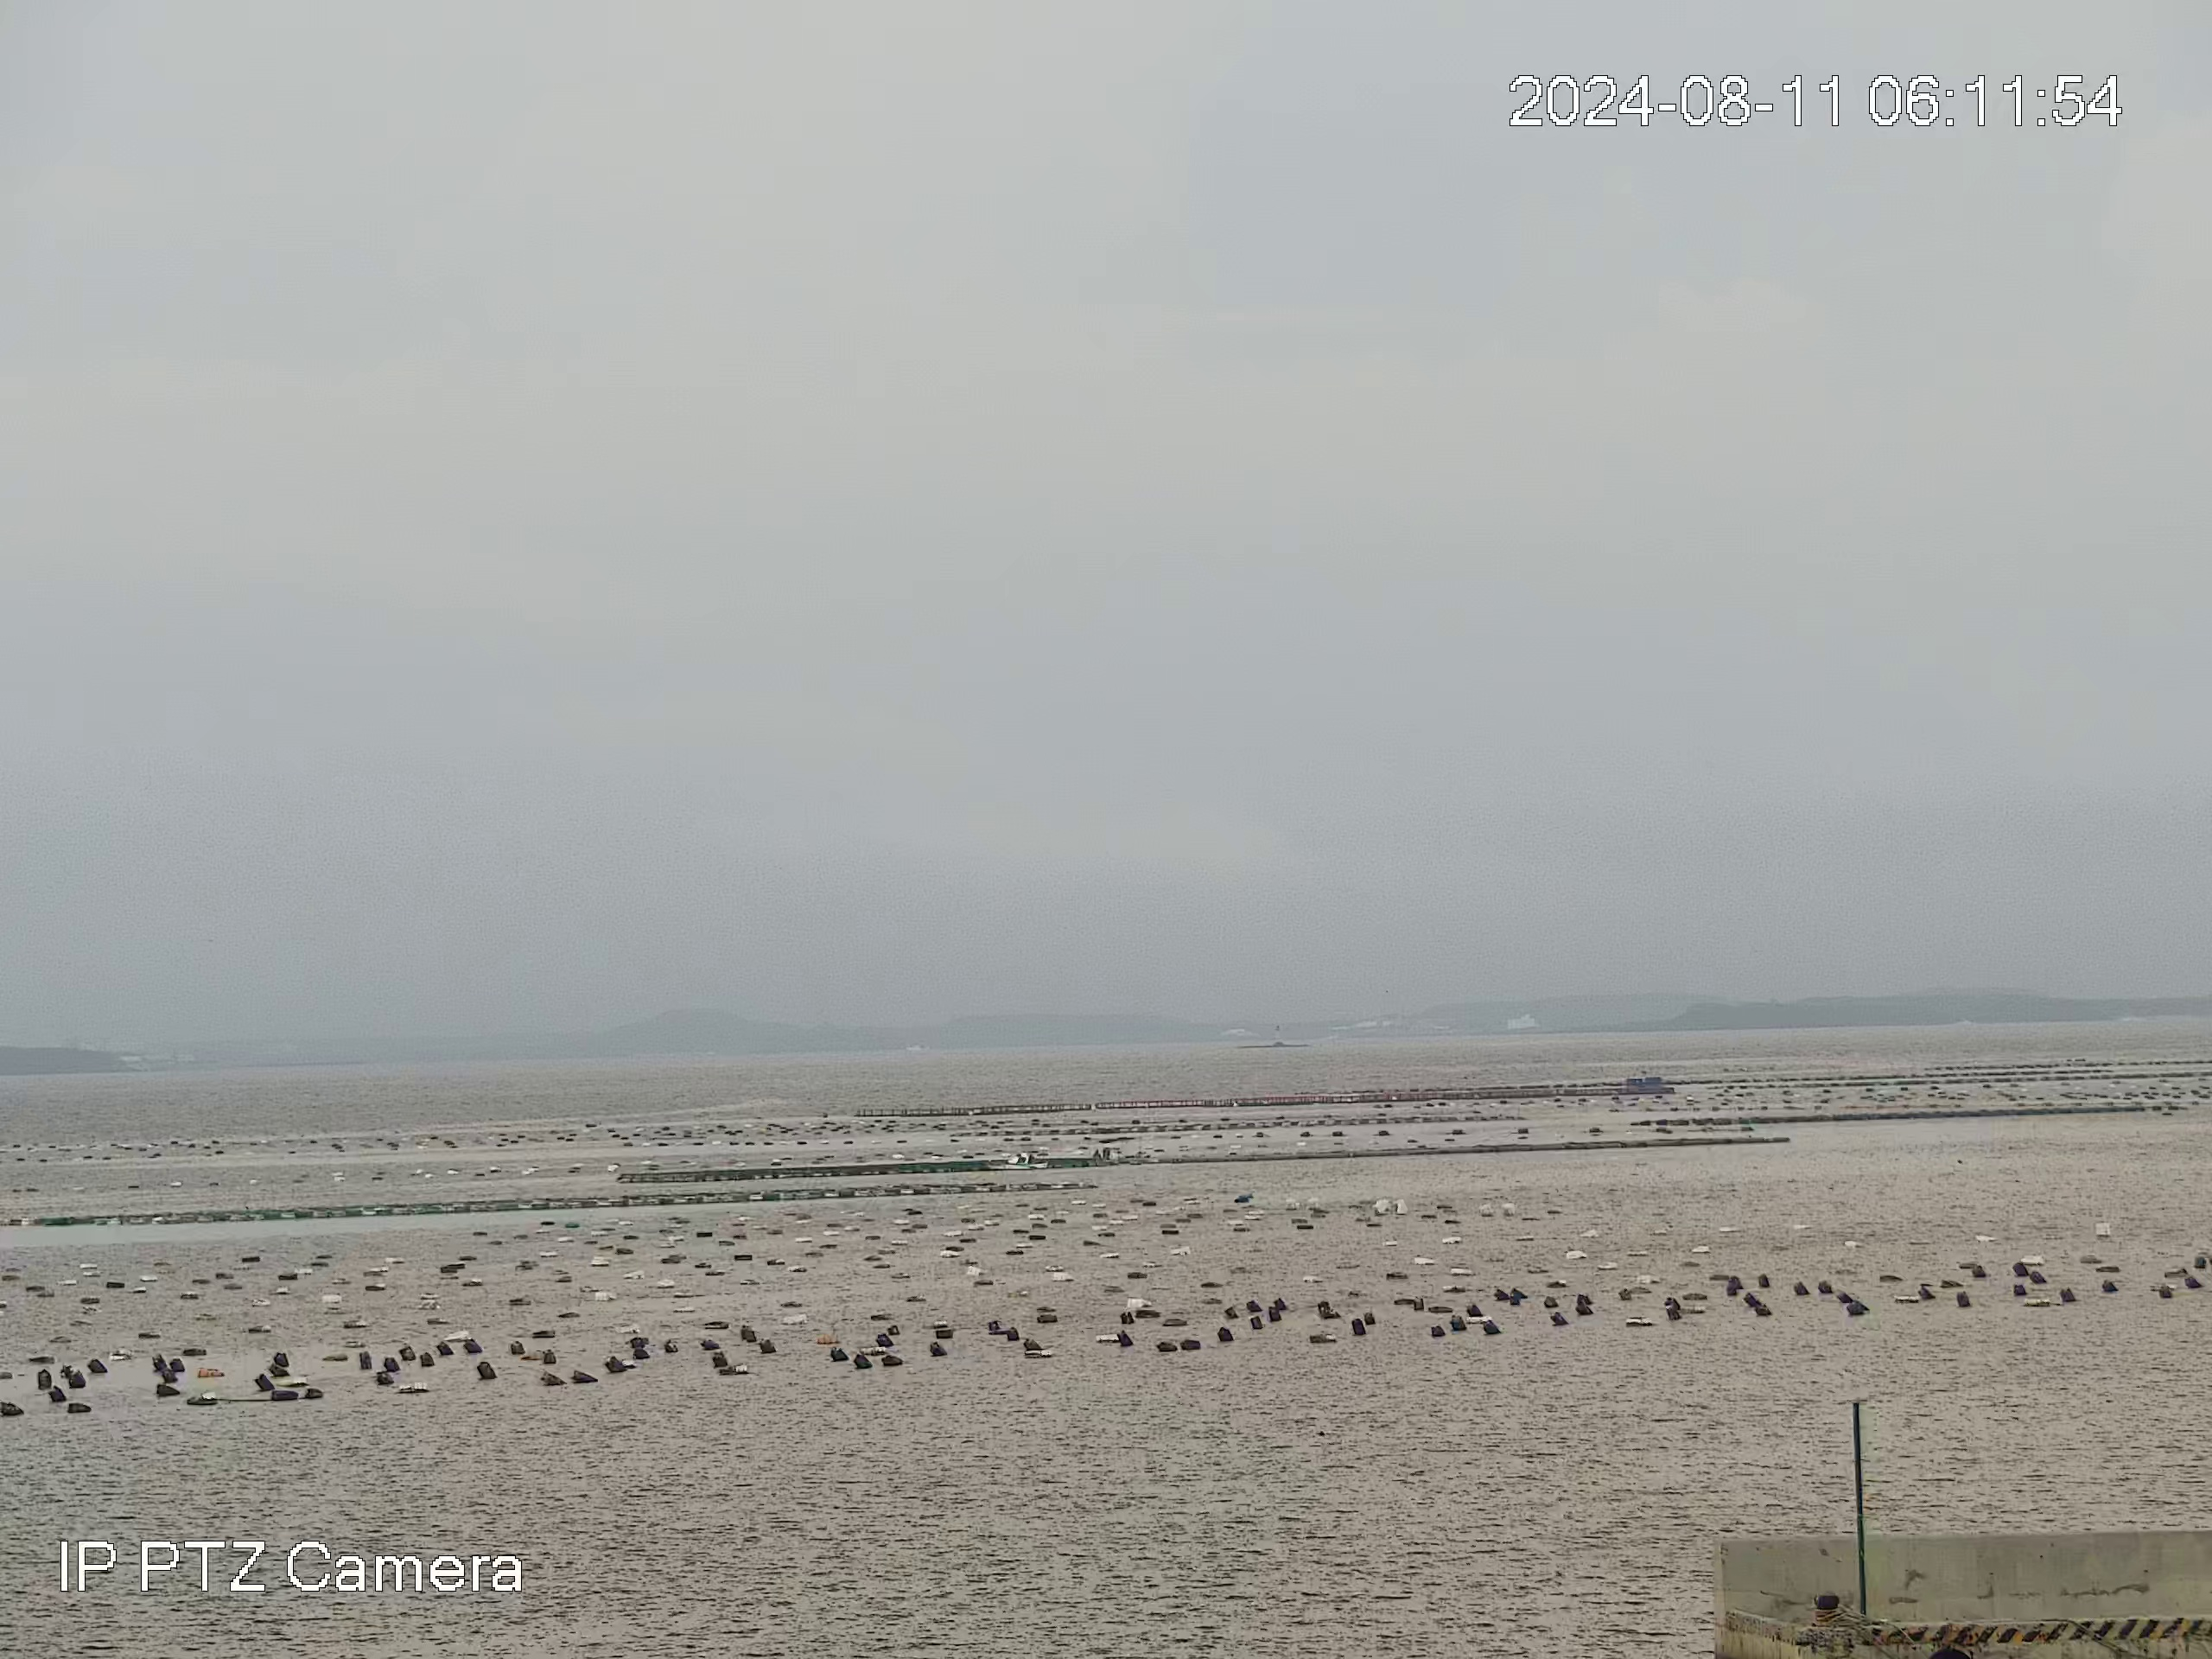boat: (981, 1150, 1054, 1173)
